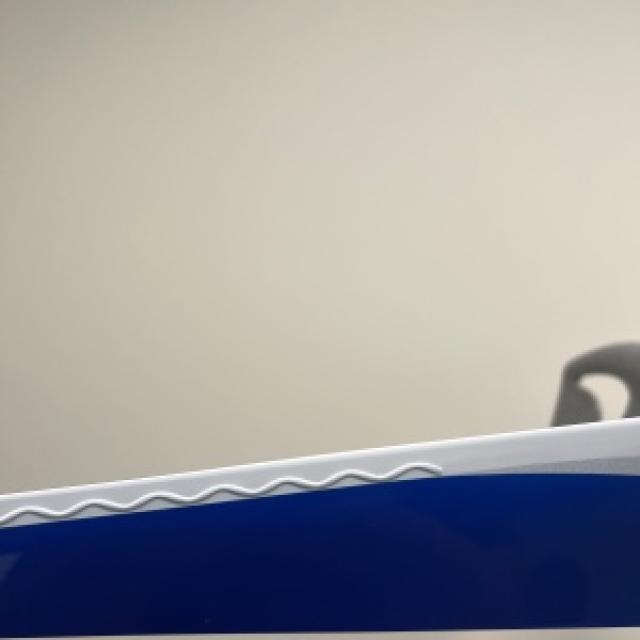healthy: (0, 343, 638, 638)
